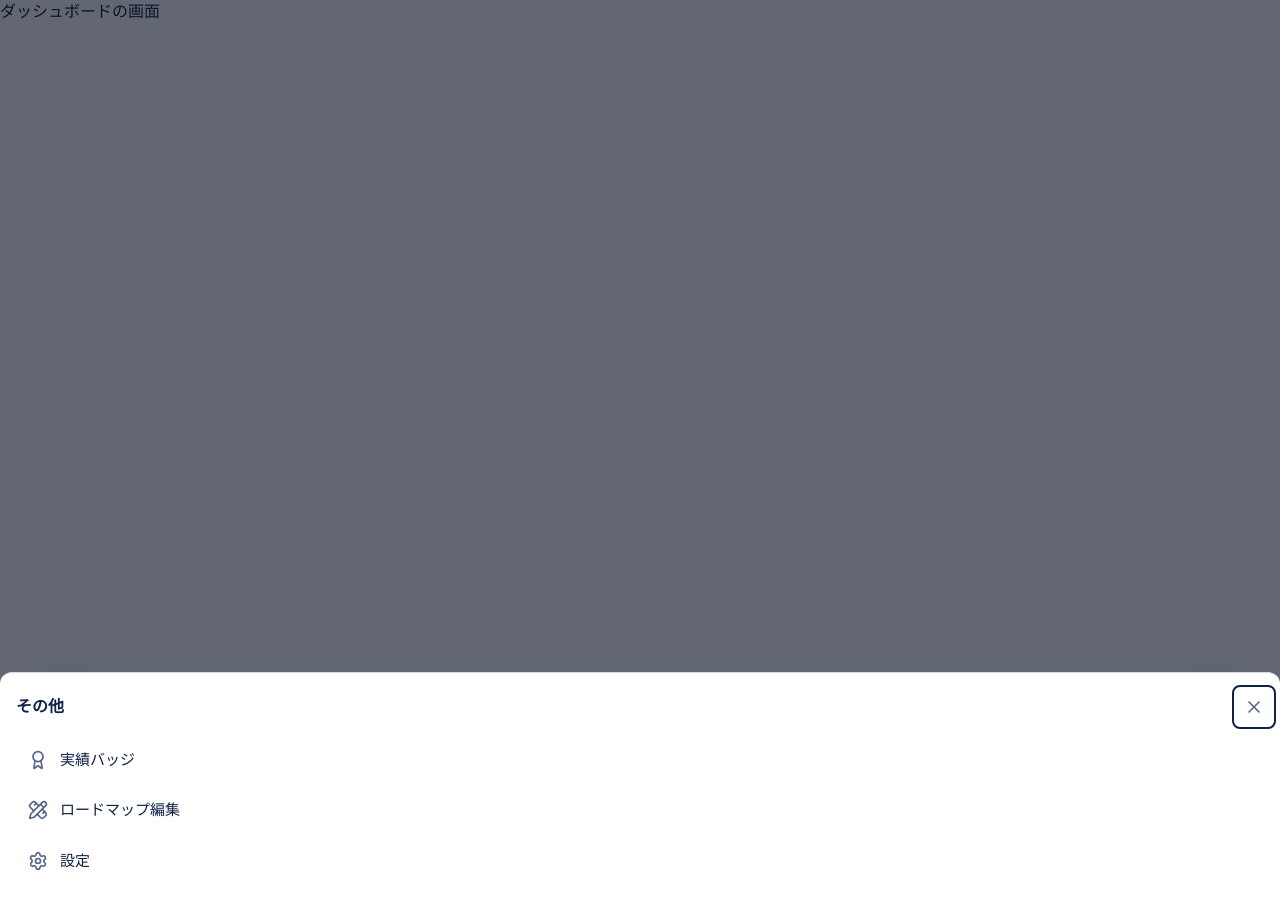
BottomNav › メニューから画面を選ぶと、移動してメニューを閉じる
The width and height of the screenshot is (1280, 900).
Earlier steps of the test are not shown.
Step 1. Click the link "設定" → [59, 861], box [28,851,90,871]
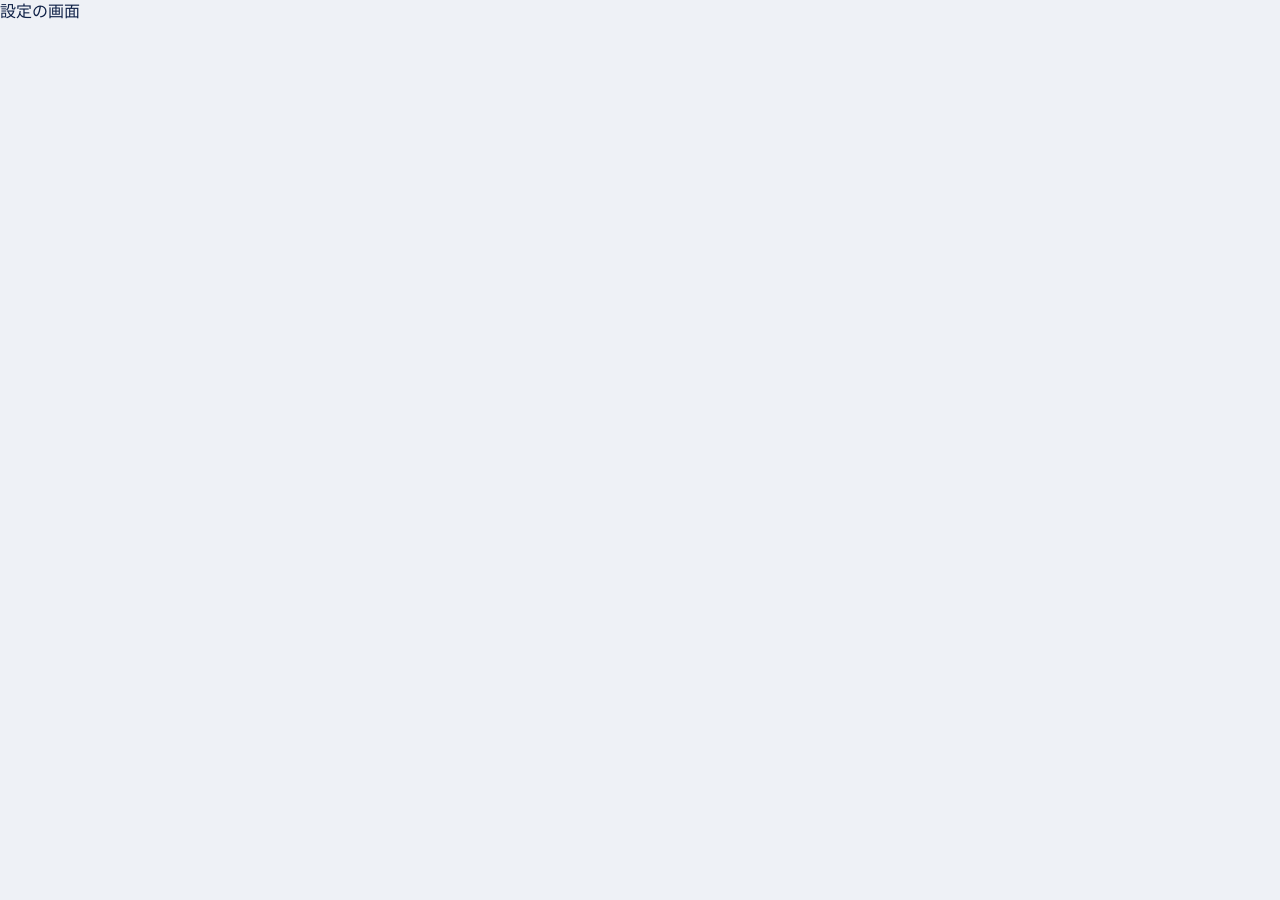
Now the text "設定の画面" is shown, box [0,3,80,20]
Now the dialog is gone
